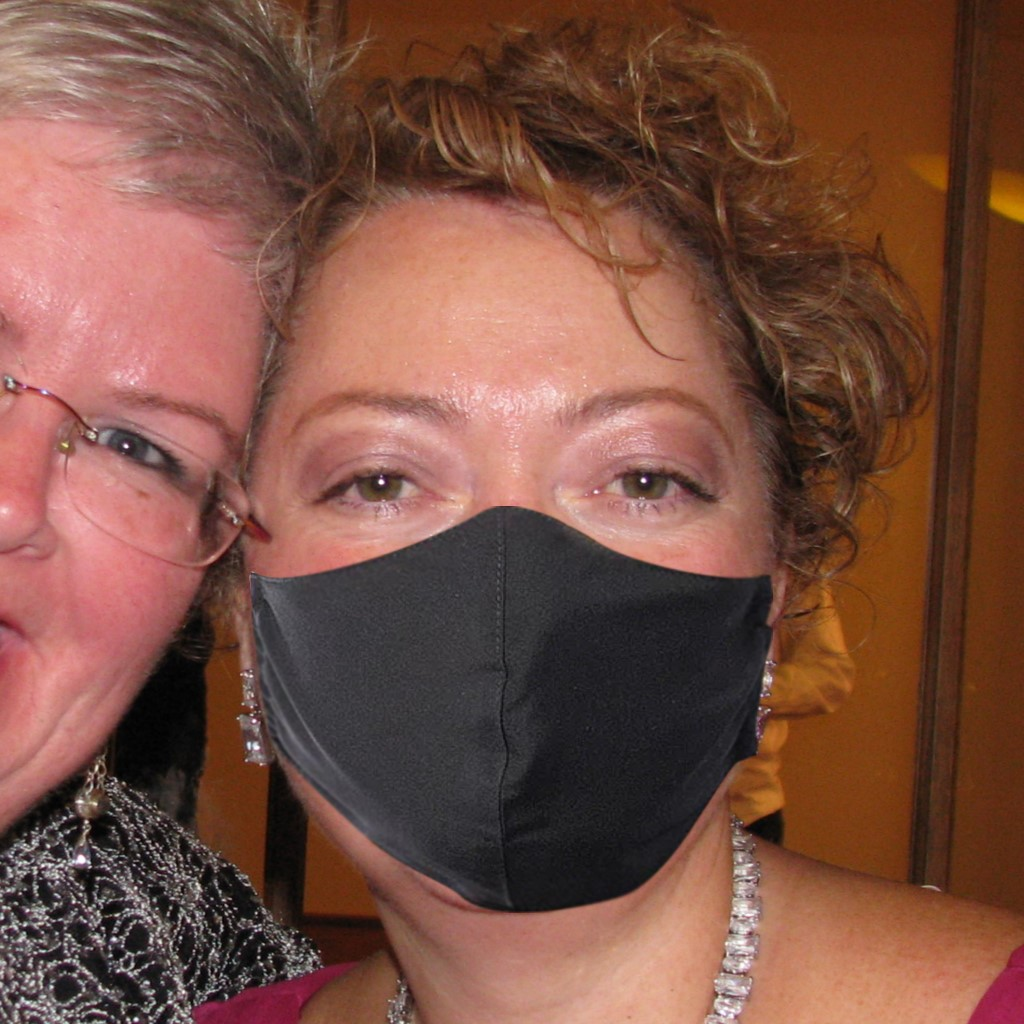con_mascara: (244, 149, 787, 934)
